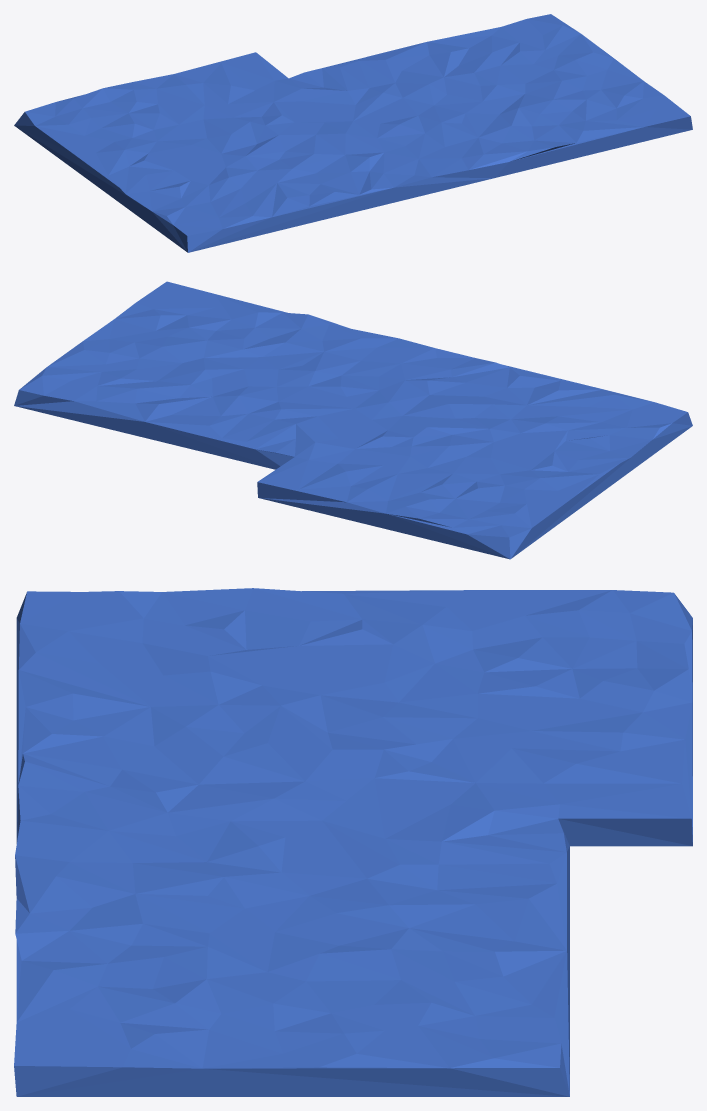
The model's file is level_5_flood_stage1_model_new.fbx.
3 views of the same model, one above another, from view 1: azimuth 30°, elevation 25°; view 2: azimuth 150°, elevation 25°; view 3: azimuth 270°, elevation 25° (orthographic). The views are drawn at different scales.
Visible parts, largest first — view 1: Cube; view 2: Cube; view 3: Cube.
Boxes of the visible parts, left/top/right/bottom form: Cube: left=14, top=14, right=692, bottom=252; Cube: left=14, top=281, right=692, bottom=559; Cube: left=14, top=588, right=692, bottom=1096.
Size of the model in its own units: 330 by 10.42 by 197.
